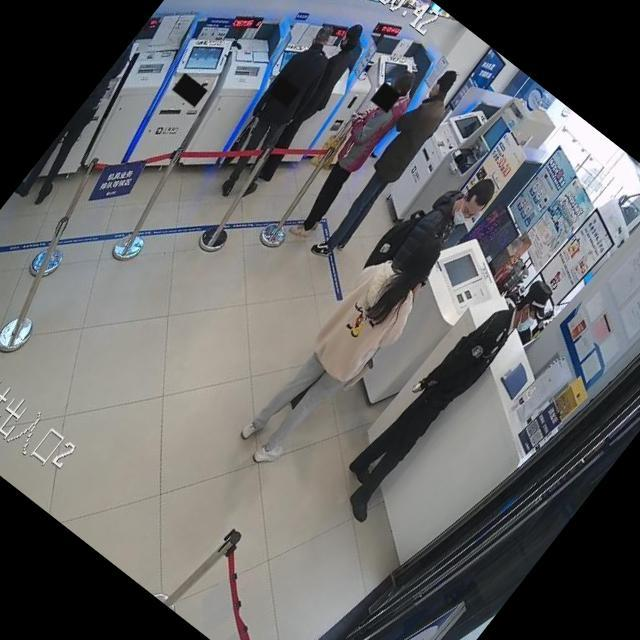person: (325, 255, 560, 532), (231, 224, 455, 484), (302, 62, 472, 266), (199, 18, 360, 205), (199, 18, 359, 205), (15, 21, 172, 210), (272, 64, 426, 245), (234, 19, 380, 192)
